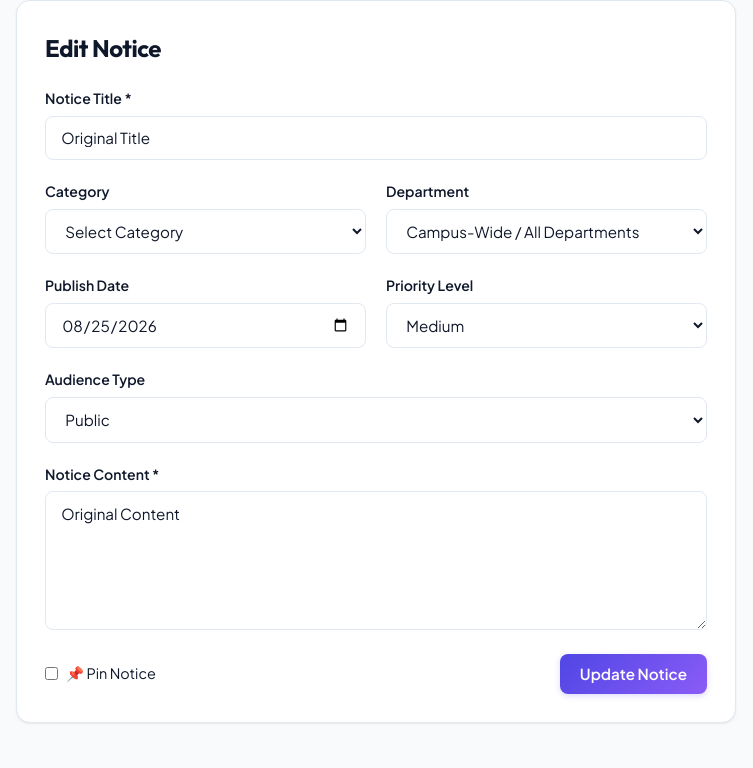
Test: EditNotice Component › loads existing notice and updates correctly
Replace the text in the field labelled "Notice Title *" with "Updated Title": (376, 138) [45,116,707,160]
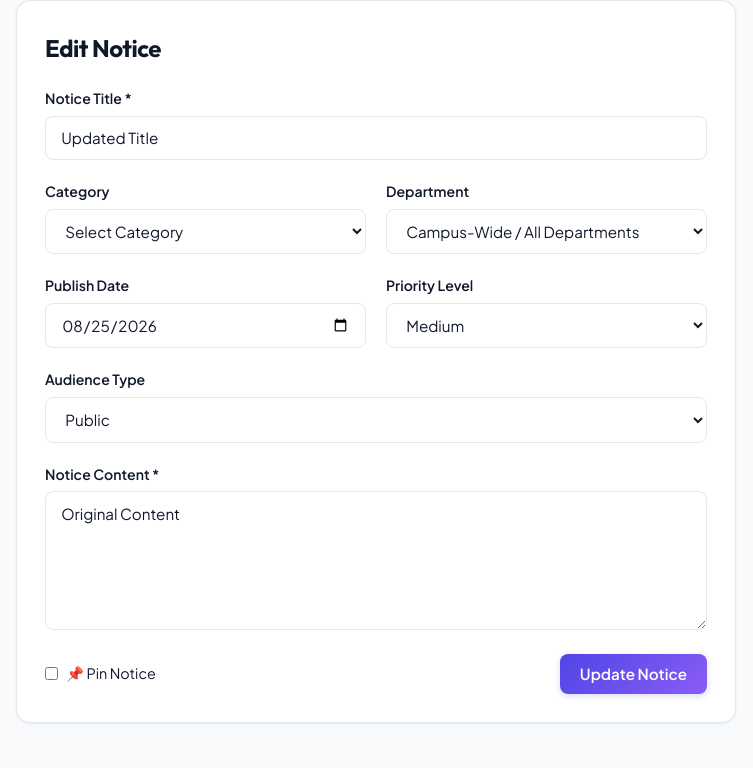
Click the button "Update Notice": (633, 674) [560,654,707,694]
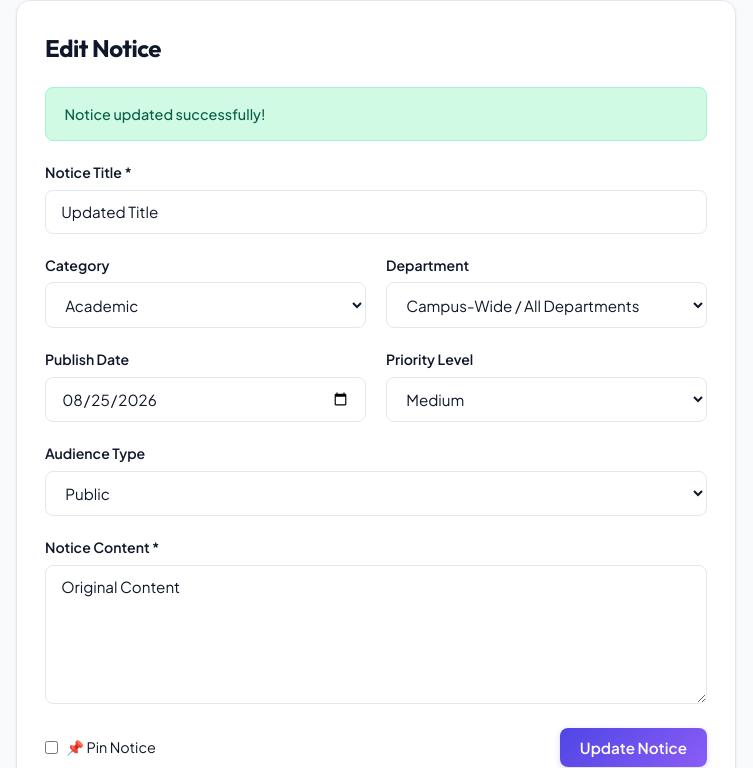
Result: the text "Notice updated successfully!" is shown at [45,87,707,141]
